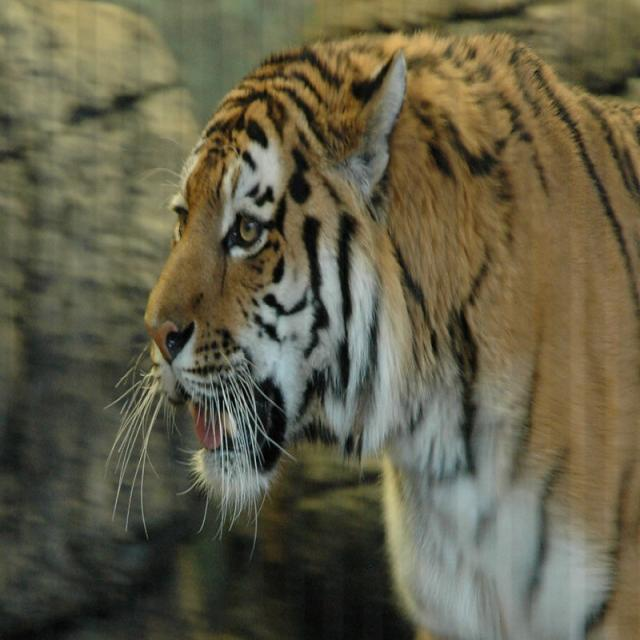Tiger: (109, 14, 628, 582)
